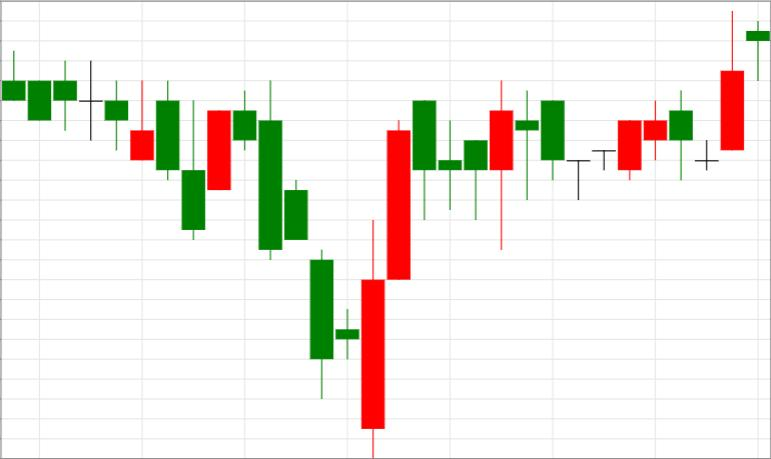bullish_engulfing_rise: (233, 79, 384, 459)
